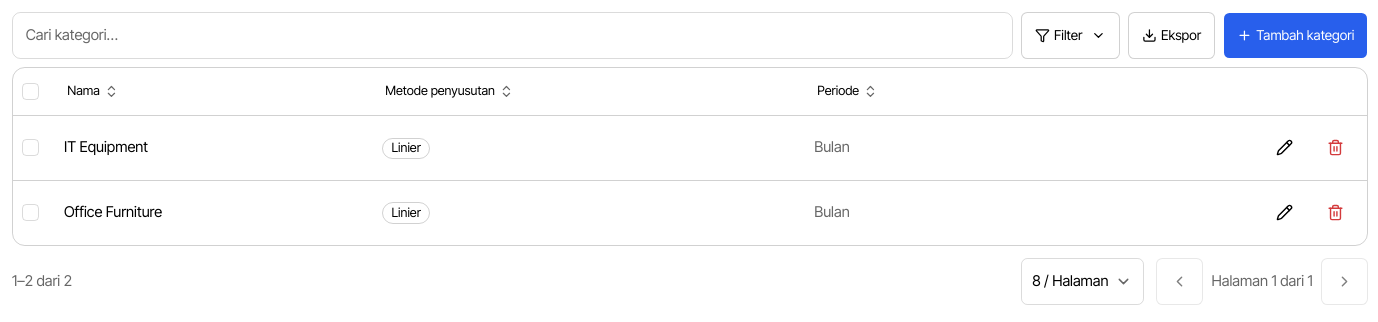
Test: AssetCategoriesSection › filters categories by search
Expected: the text "IT Equipment" is shown, [64, 138, 148, 156]
Type "Furniture" into the search field with placeholder "Cari kategori…".
click(512, 35); type("Furniture")  # box [12, 12, 1013, 59]
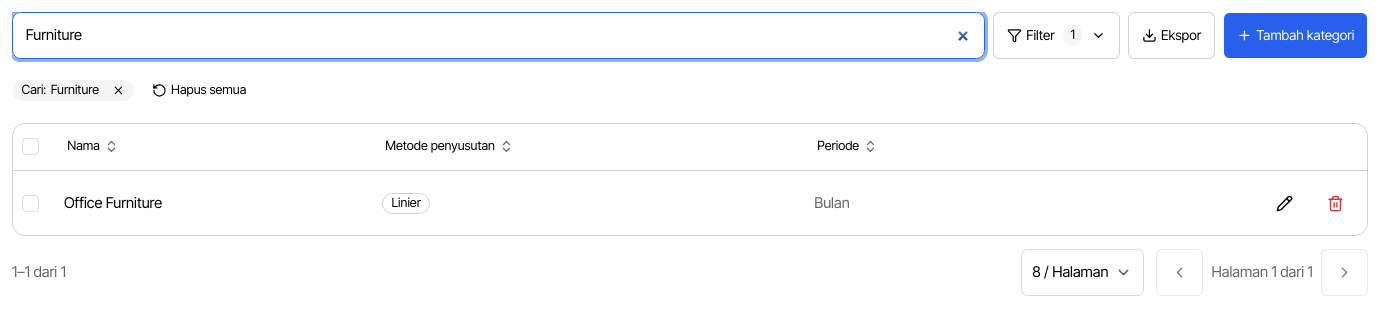
Expected: the text "Office Furniture" is shown, [64, 194, 162, 212]
Expected: the text "IT Equipment" is gone
